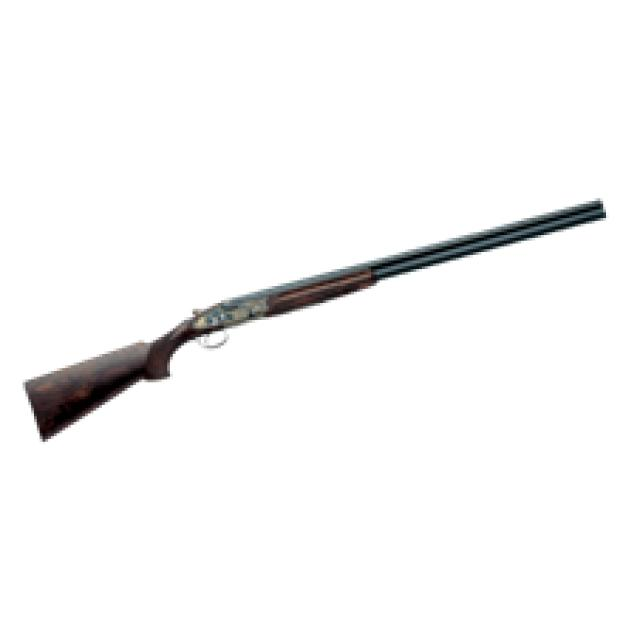rifle: (21, 200, 618, 452)
